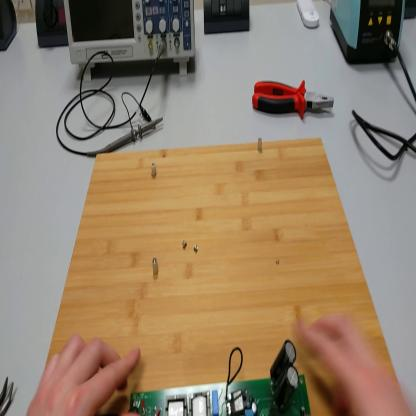hand: (295, 313, 408, 416), (28, 334, 140, 415)
high voltage board: (97, 338, 312, 416)
oscilloscope: (65, 2, 197, 83)
oscilloscope probe tip: (93, 115, 165, 157)
pliers: (248, 76, 336, 124), (2, 375, 13, 413)
socket: (37, 1, 69, 49), (1, 2, 20, 53)
welder station: (331, 2, 405, 64)
working area: (27, 137, 408, 415)
